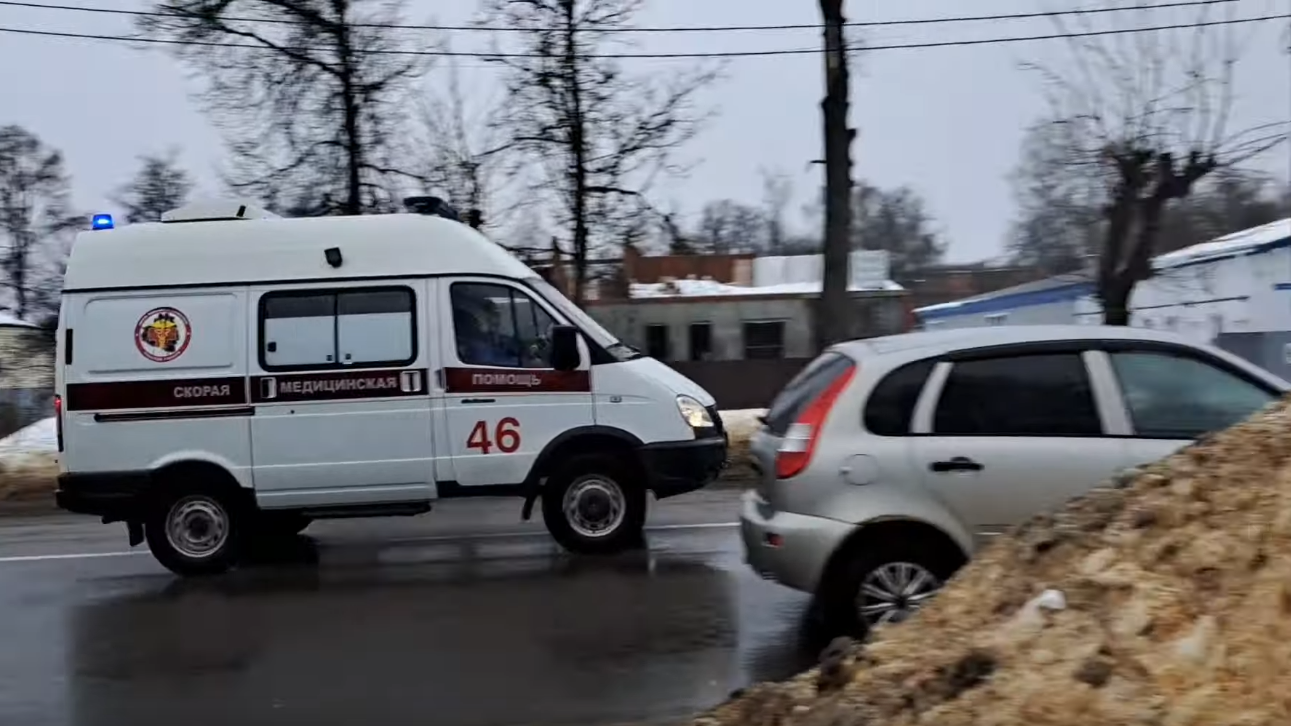non emergency car: (56, 199, 729, 576), (745, 323, 1291, 640)
